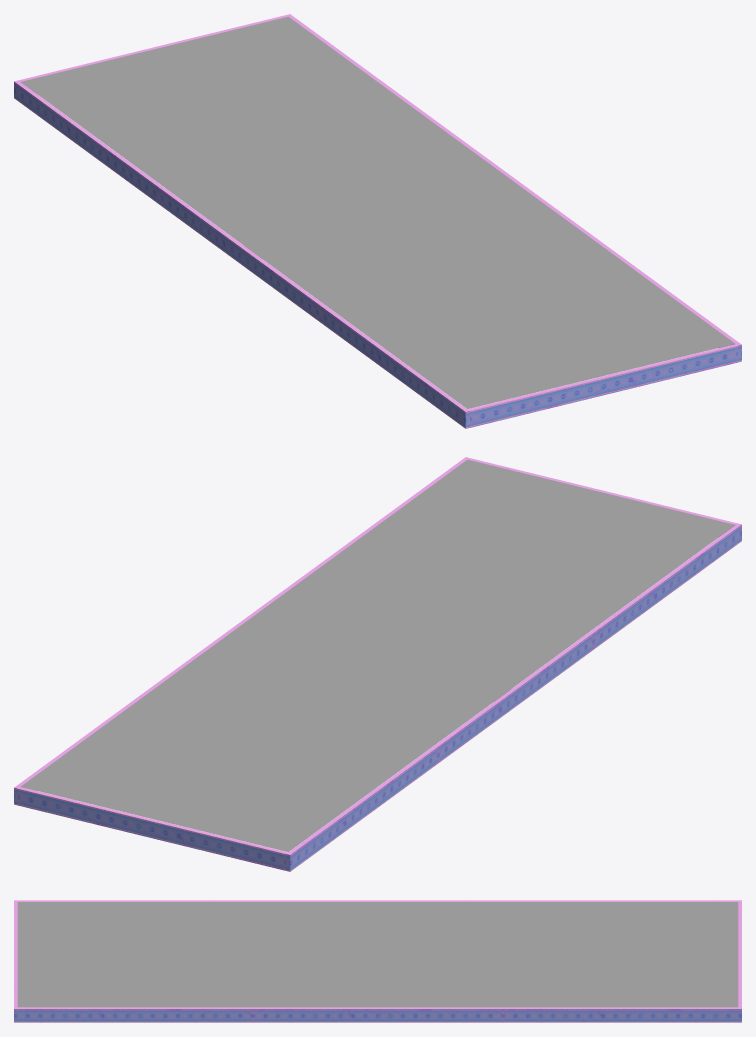
The model's file is BarracksOverhang_04_SM_Low.fbx.
3 views of the same model, one above another, from view 1: azimuth 30°, elevation 25°; view 2: azimuth 150°, elevation 25°; view 3: azimuth 270°, elevation 25° (orthographic). The views are drawn at different scales.
Visible parts, largest first — view 1: GratedFloor, FloorSide; view 2: GratedFloor, FloorSide; view 3: GratedFloor, FloorSide.
Part boxes in pixels (x1,y1,x2,y2): GratedFloor: (21,16,735,408); FloorSide: (14,14,741,428); GratedFloor: (20,459,734,851); FloorSide: (14,457,741,871); GratedFloor: (17,902,738,1007); FloorSide: (14,900,741,1022).
Size of the model in its own units: 300 by 17.66 by 850.
Materials: 2 (1 with a texture image).
